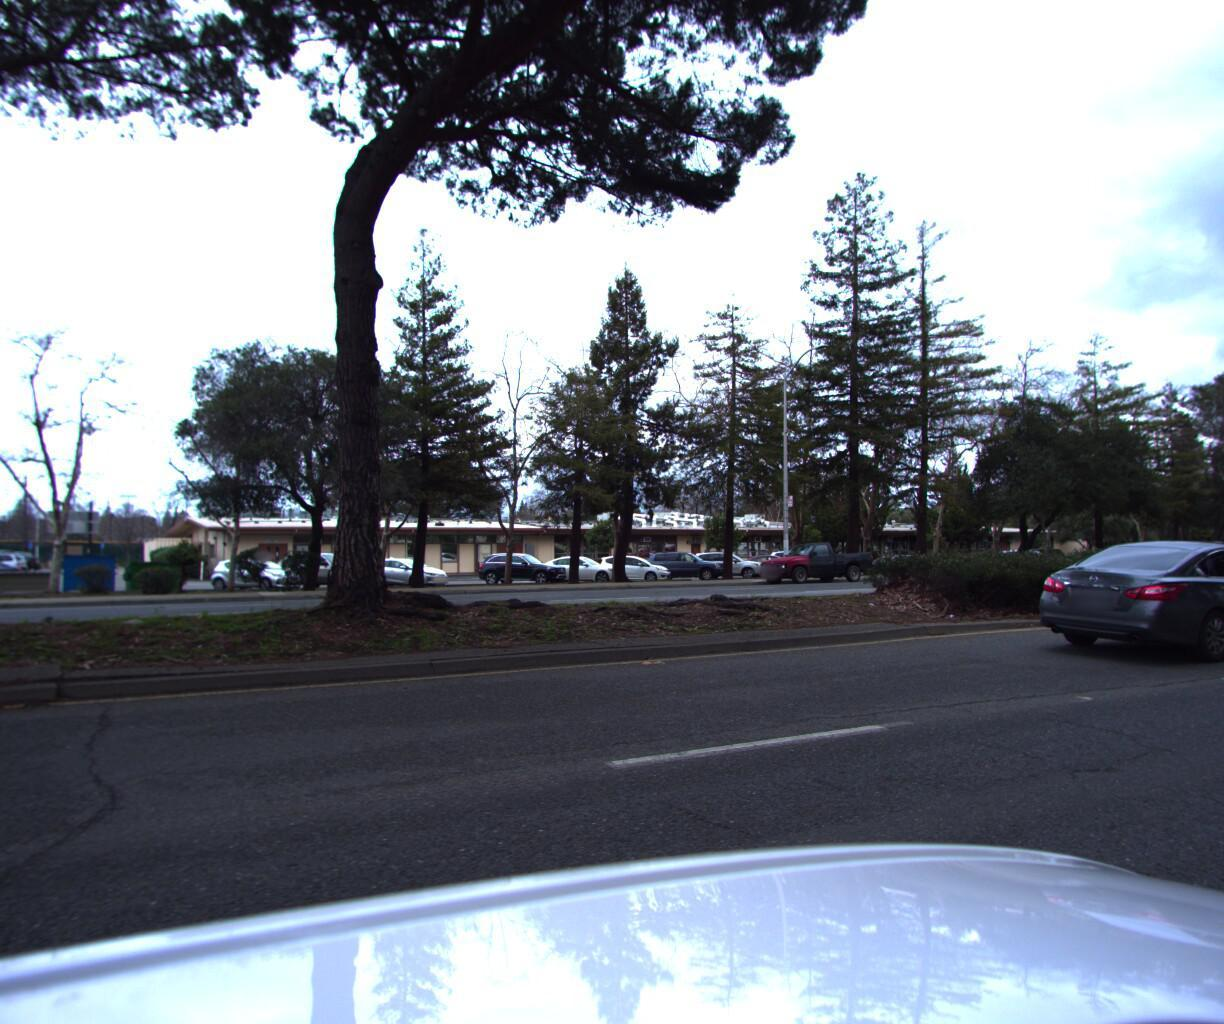car: (1024, 532, 1224, 671), (754, 549, 876, 593)
